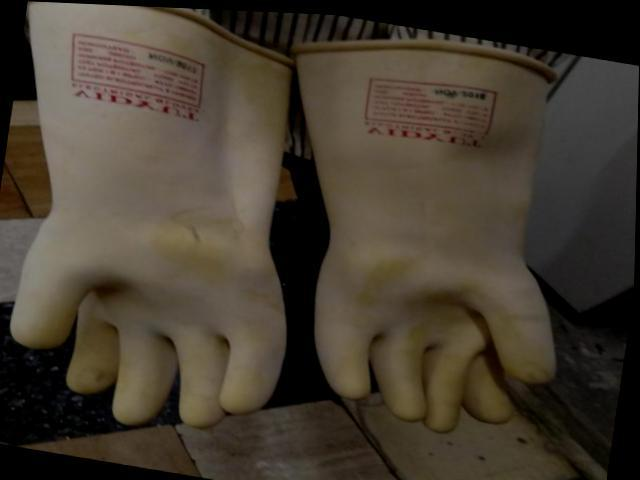Hand-in-Glove: (237, 14, 608, 450), (0, 0, 343, 452)
